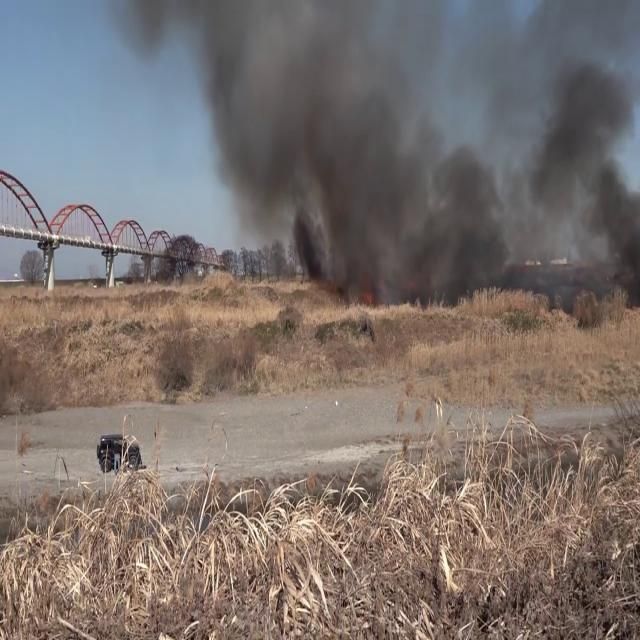Smoke: (155, 0, 639, 313)
